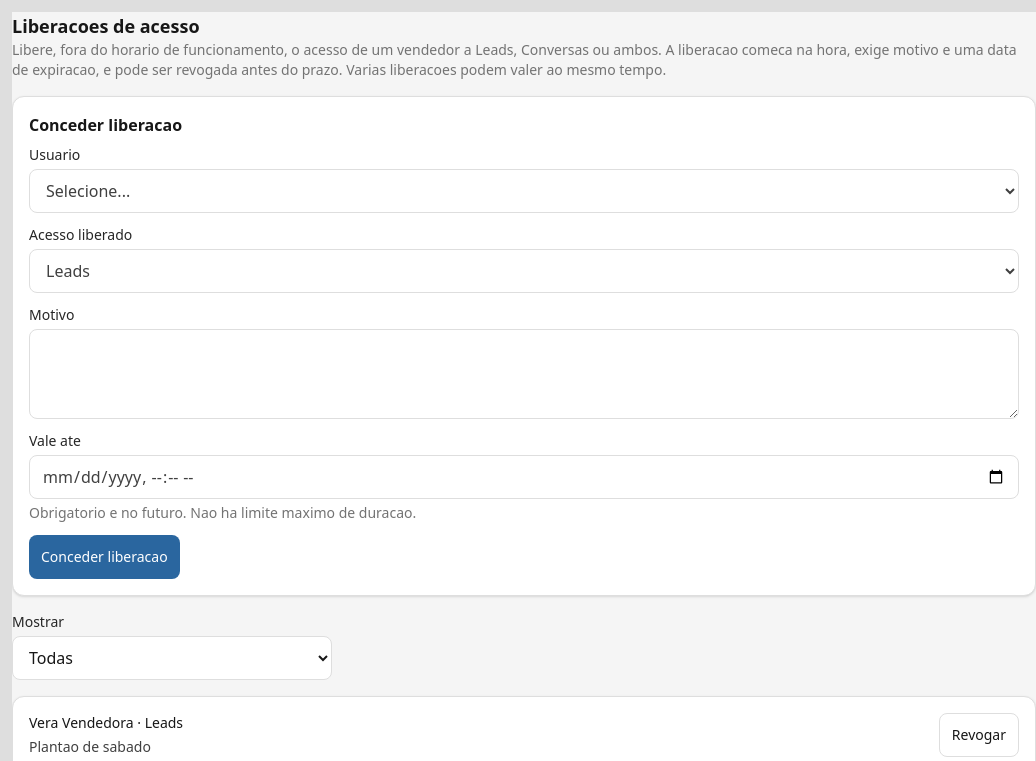
Test: AccessExceptionsPage (F4.7, Admin e Gerente) › concede: envia usuario, escopo, motivo sem espacos e expiracao em ISO; nao envia inicio
Expected: the text "Plantao de sabado" is shown, 29,737 -> 151,756
Select "Vera Vendedora" in the dropdown labelled "Usuario": (524, 191) 29,169 -> 1019,213
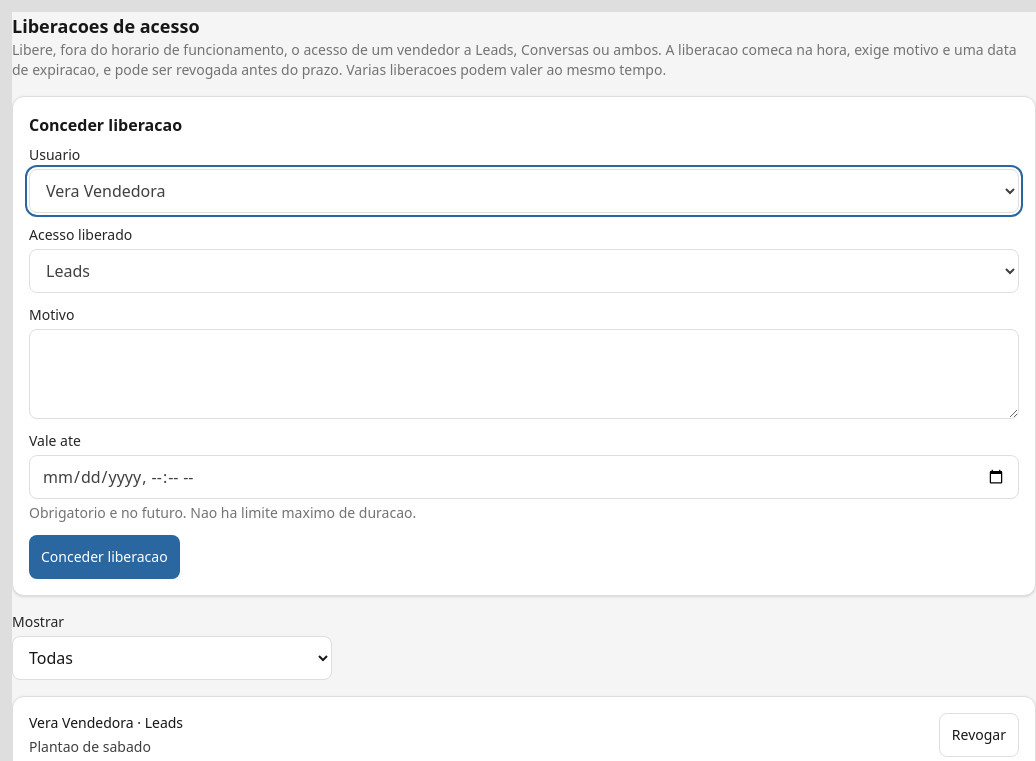
Select "Leads e Conversas" in the dropdown labelled "Acesso liberado": (524, 271) 29,249 -> 1019,293
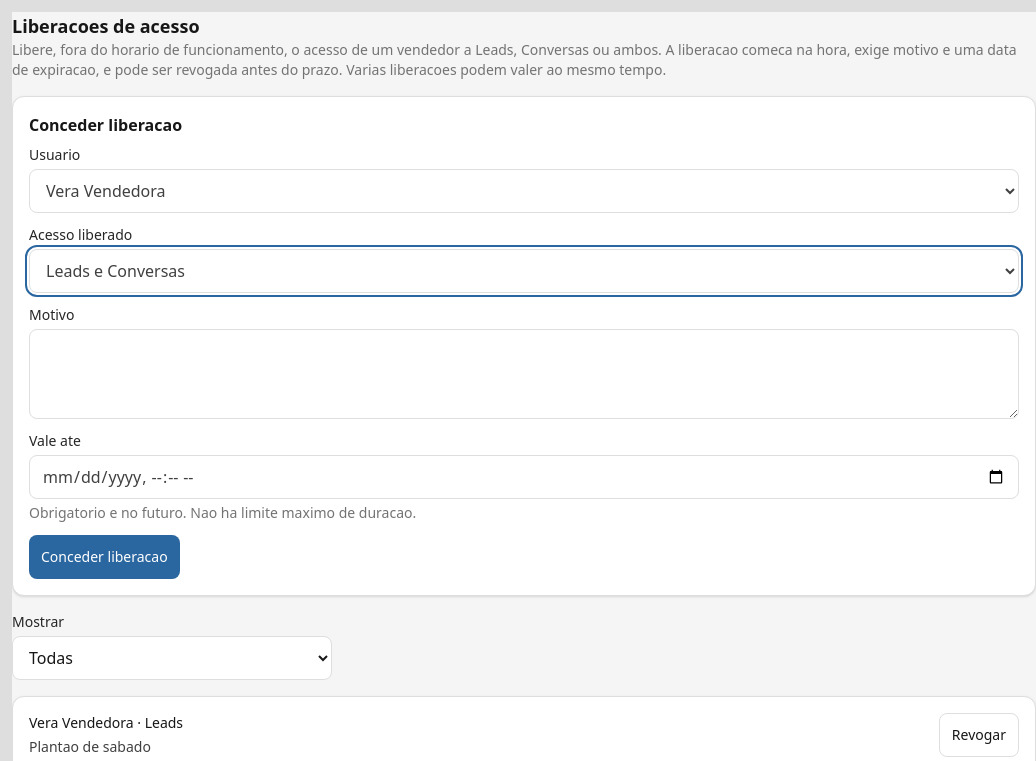
In the text box labelled "Motivo": (524, 374) 29,329 -> 1019,419, type "  Atendimento especial  "
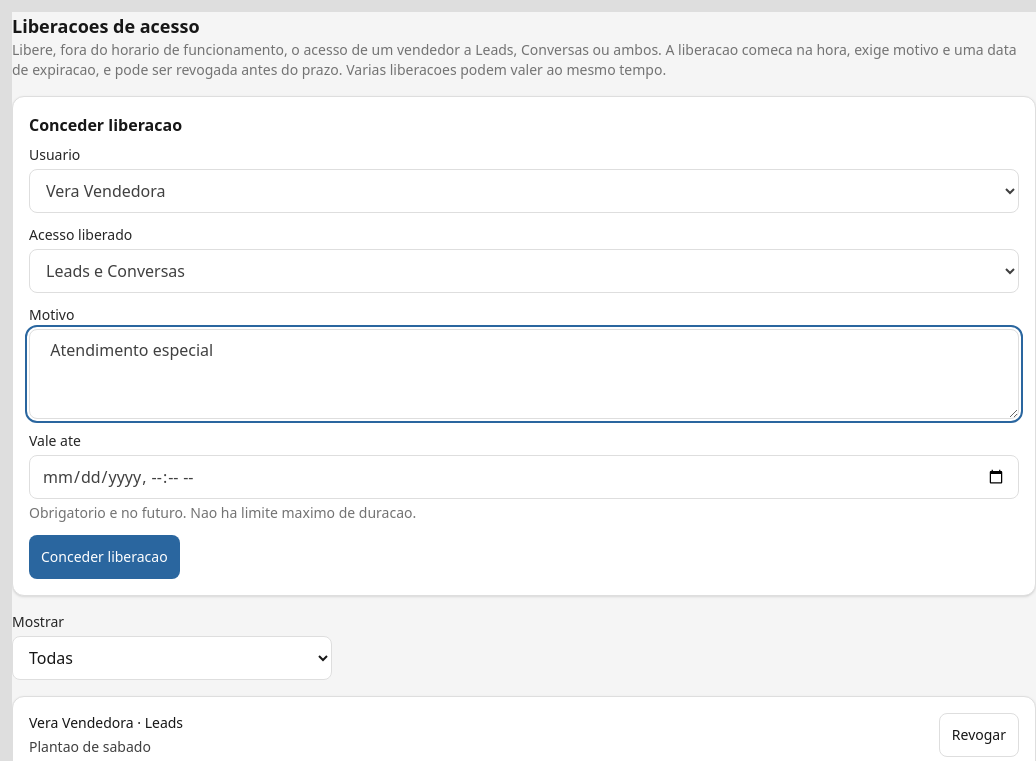
In the field labelled "Vale ate": (524, 477) 29,455 -> 1019,499, type "2099-01-01T10:00"
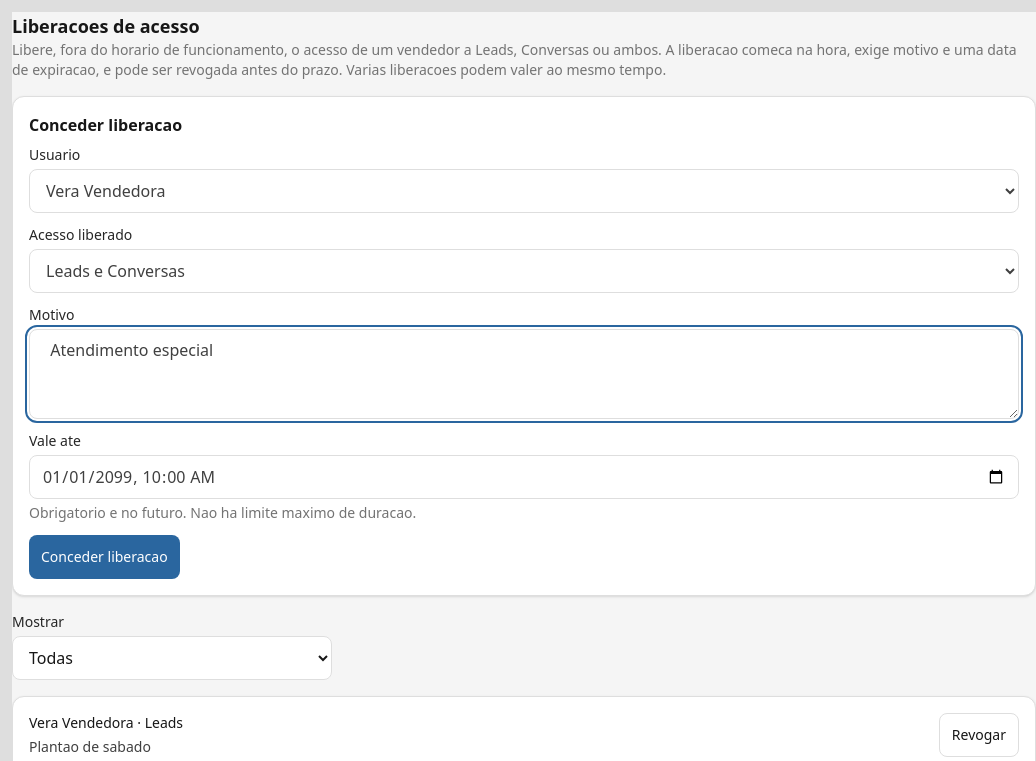
Click the button "Conceder liberacao": click(104, 557) 29,535 -> 180,579
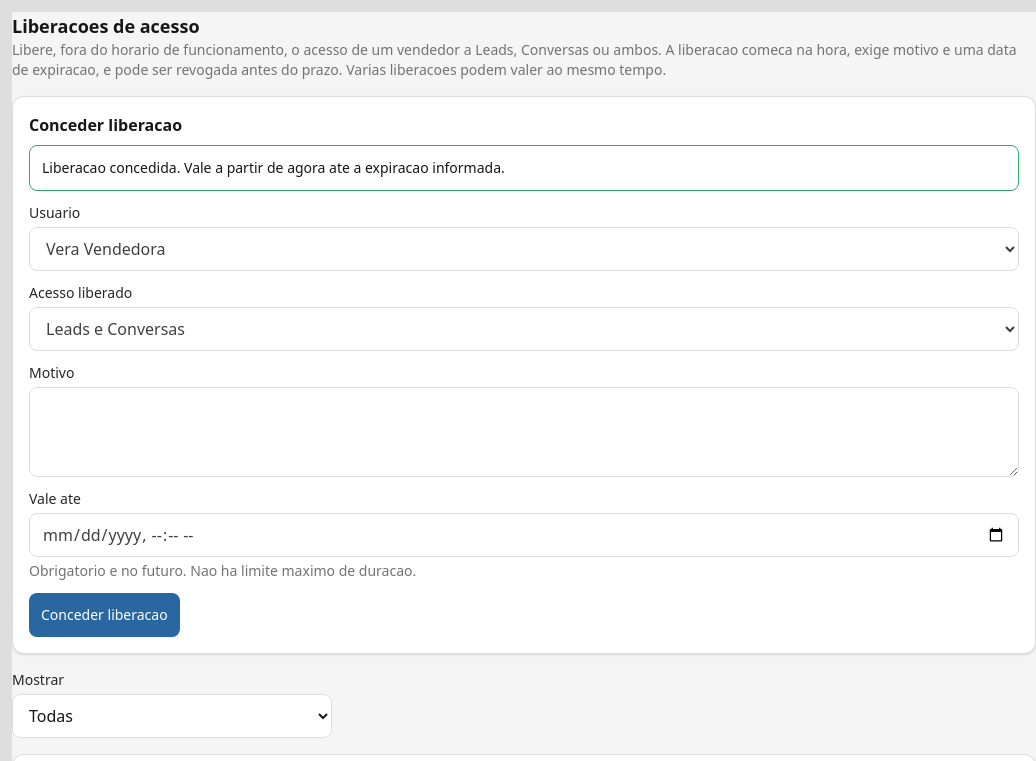
Now the text "Liberacao concedida" is shown, box 42,158 -> 505,177
Now the text box labelled "Motivo" is empty, box 29,387 -> 1019,477
